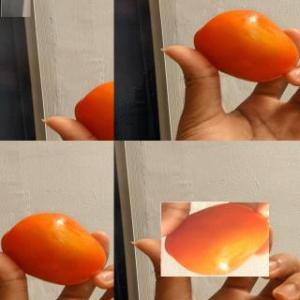tomato: (160, 202, 268, 276), (2, 0, 30, 16)
